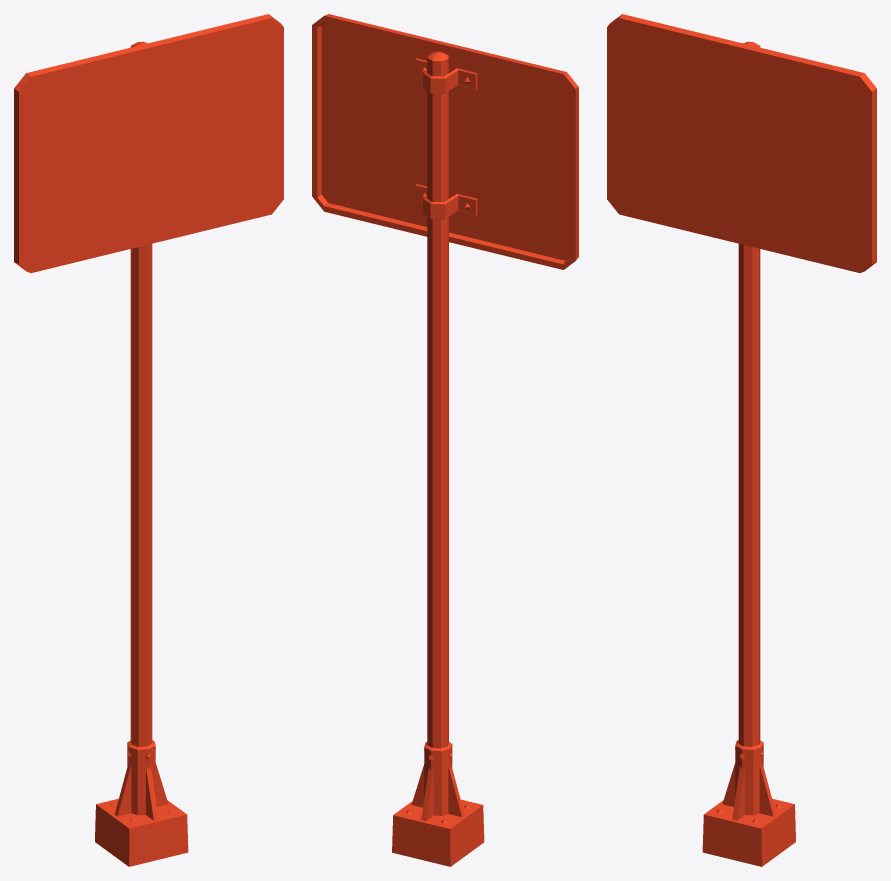
Rendered from SM_Sign_Wrong_Way_B_City.fbx.
3 views of the same model, side by side, from view 1: azimuth 30°, elevation 25°; view 2: azimuth 150°, elevation 25°; view 3: azimuth 330°, elevation 25° (orthographic).
Visible parts, largest first — view 1: SM_Sign_Wrong_Way_B_City; view 2: SM_Sign_Wrong_Way_B_City; view 3: SM_Sign_Wrong_Way_B_City.
Part boxes in pixels (x1,y1,x2,y2): SM_Sign_Wrong_Way_B_City: [14, 14, 283, 866]; SM_Sign_Wrong_Way_B_City: [312, 14, 578, 866]; SM_Sign_Wrong_Way_B_City: [607, 14, 876, 866].
Size of the model in its own units: 0.8275 by 2.39 by 0.1839.
